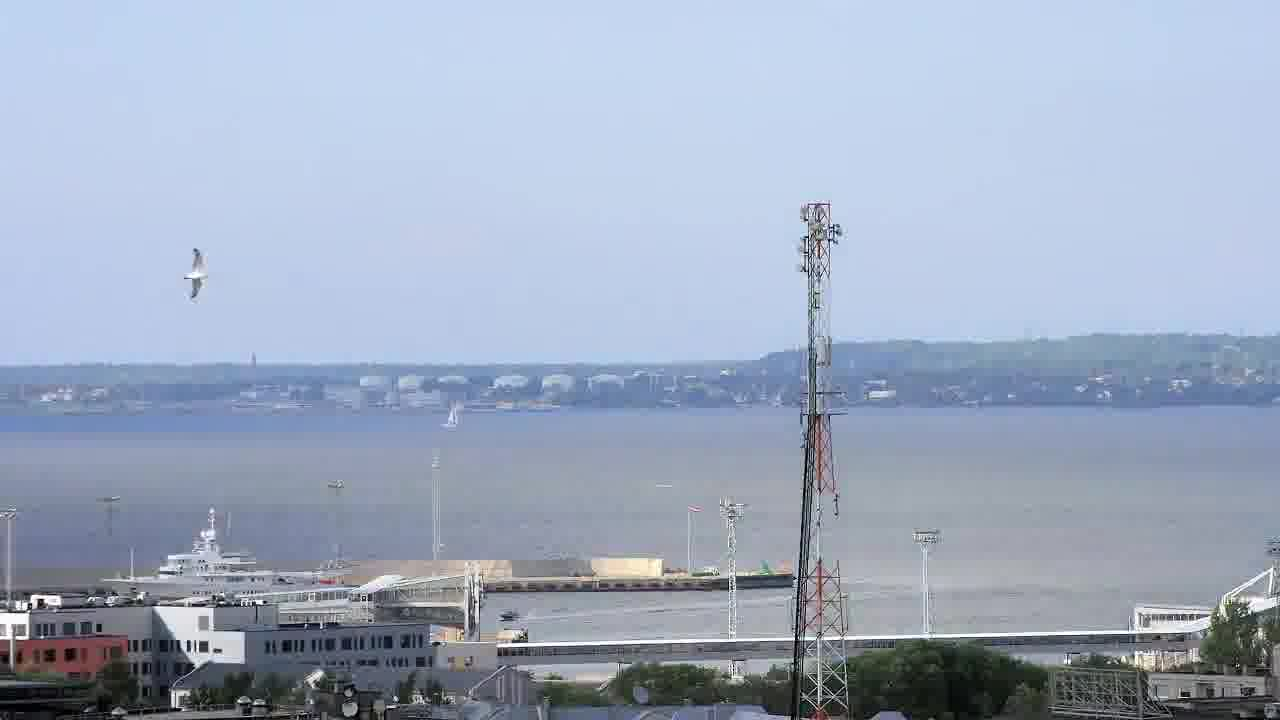type-2: (424, 389, 491, 443)
type-3: (88, 507, 346, 605)
type-4: (491, 593, 531, 635)
